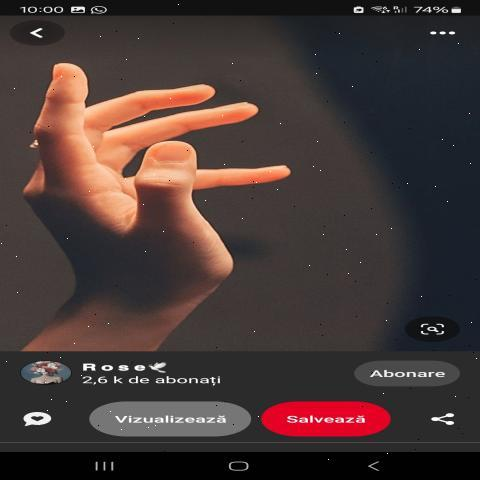Hands: (16, 38, 316, 326)
